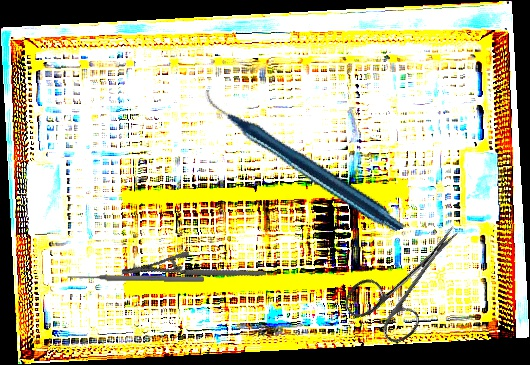Handpiece: (203, 42, 406, 277)
Iris Scissors: (338, 202, 484, 354)
Needle Holder: (119, 224, 267, 322)
Pusher: (66, 272, 205, 284)
